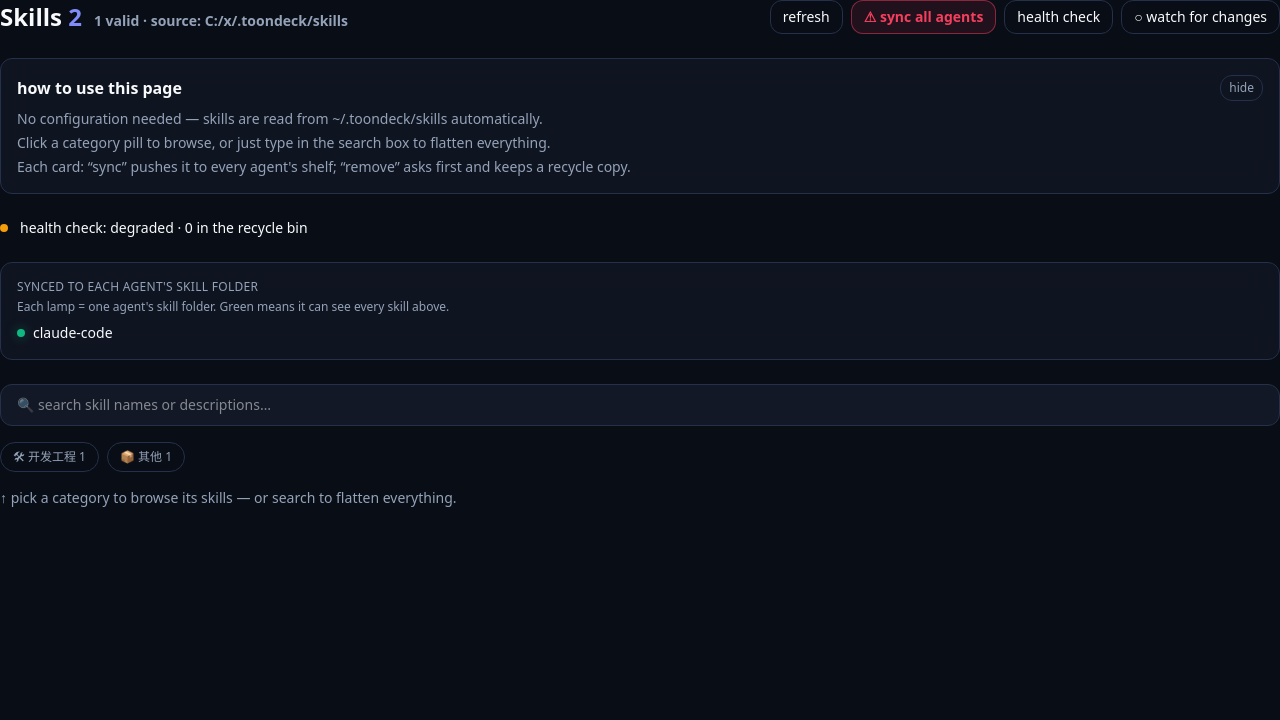
Scenario: SkillsPanel card actions (UX-017) › removes a skill only after in-app confirmation
This screenshot has width=1280, height=720.
Click the button with test id "category-pill-🛠 开发工程": click(49, 457) [0,442,99,472]
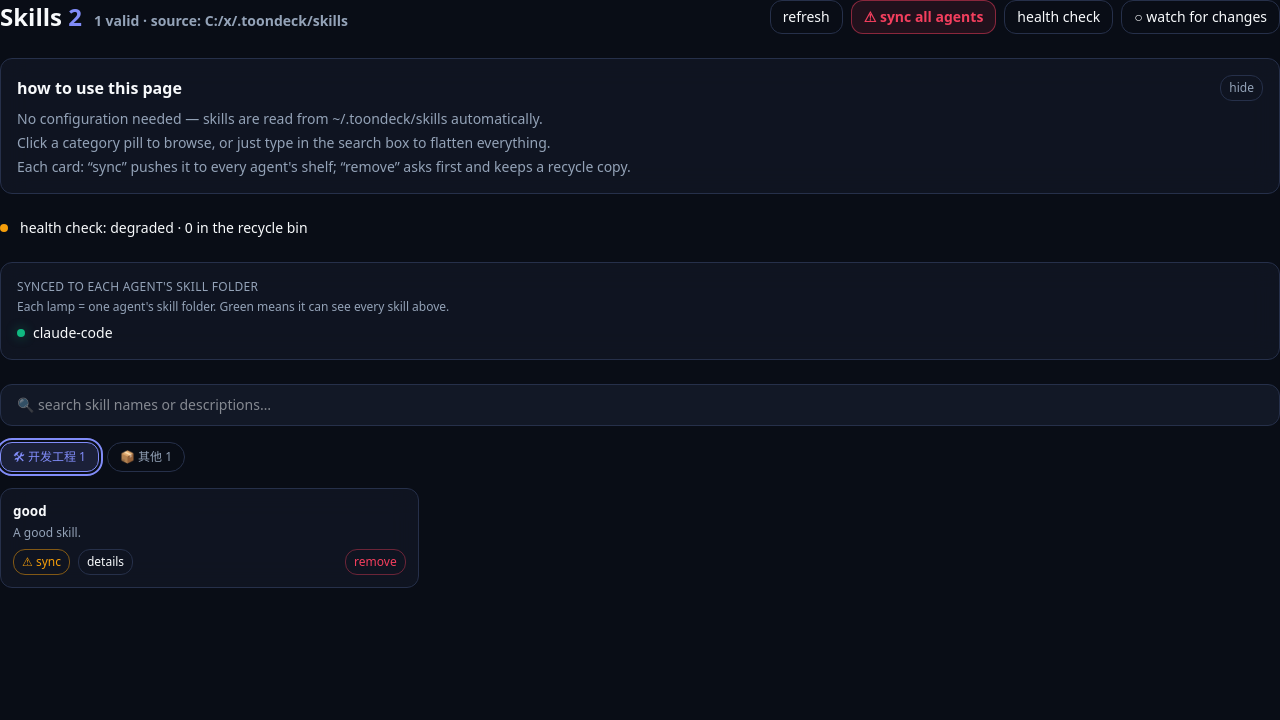
Click the button with test id "skill-remove-good": click(375, 562) [345,549,406,575]
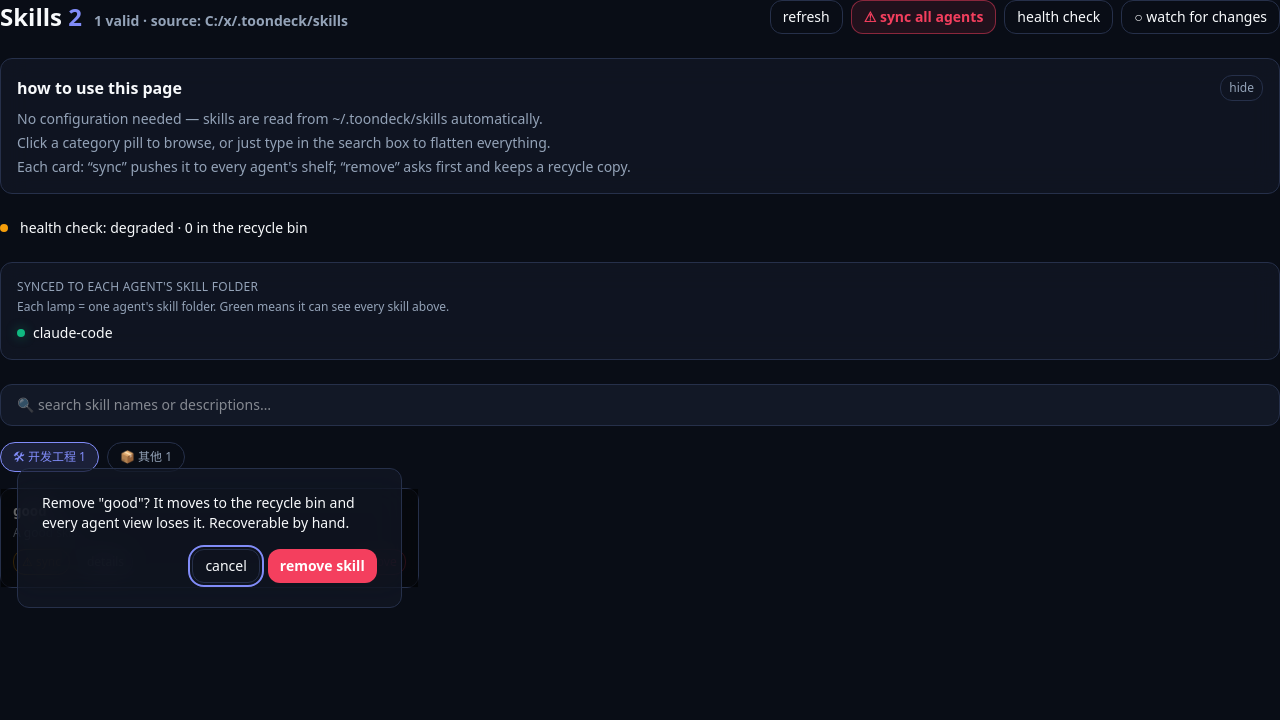
expect the dialog shows "good": met, box [42,493,355,532]
Click the button "cancel": click(226, 566) [192,549,260,583]
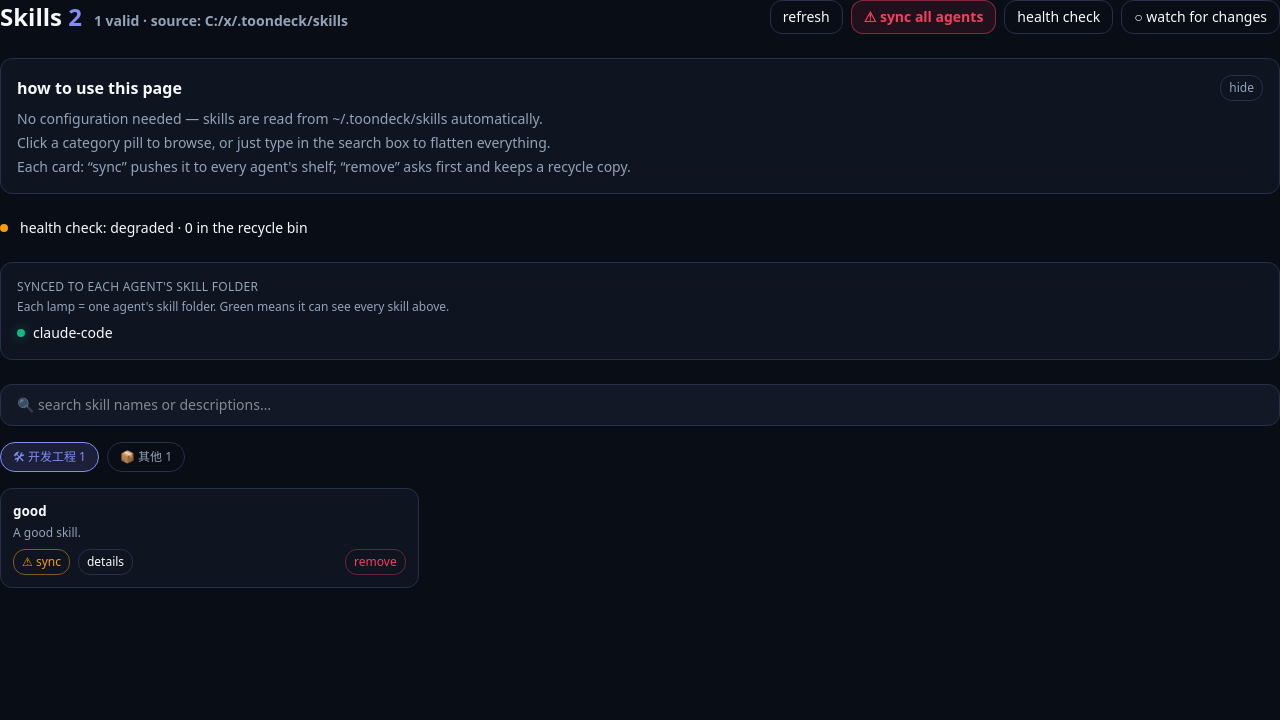
Click the button with test id "skill-remove-good": click(375, 562) [345,549,406,575]
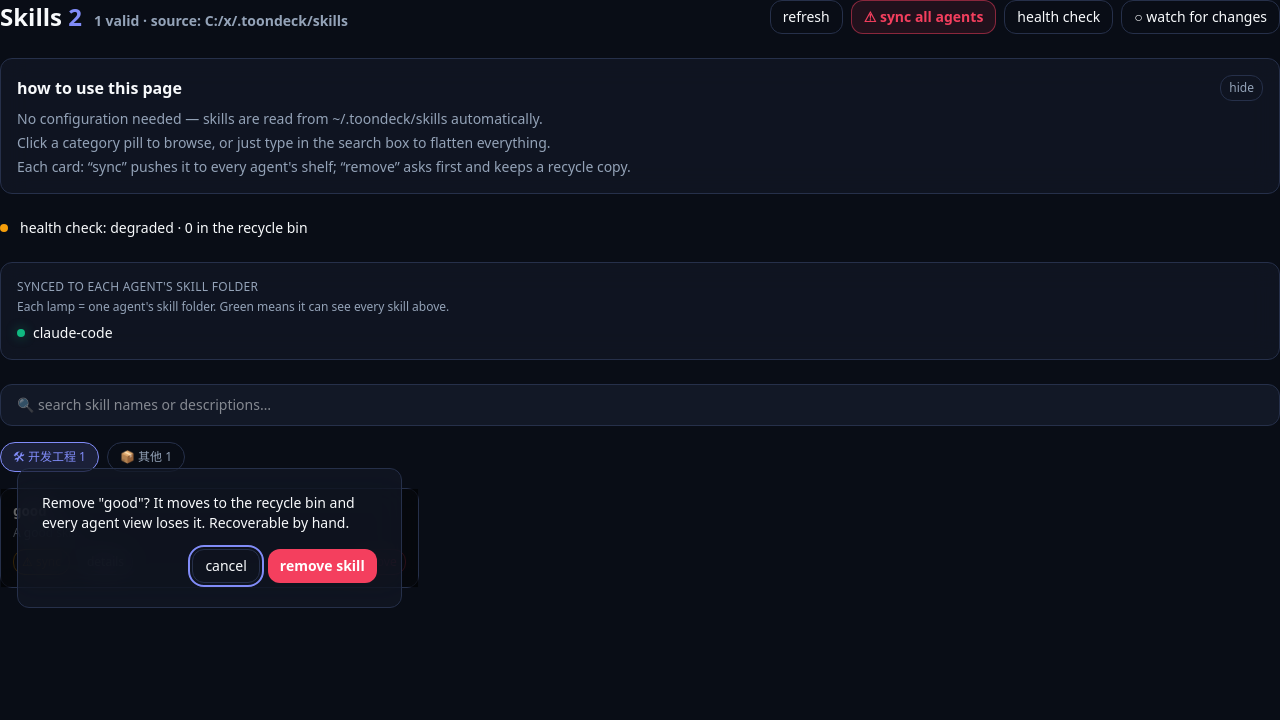
Click the button "remove skill": click(322, 566) [268,549,377,583]
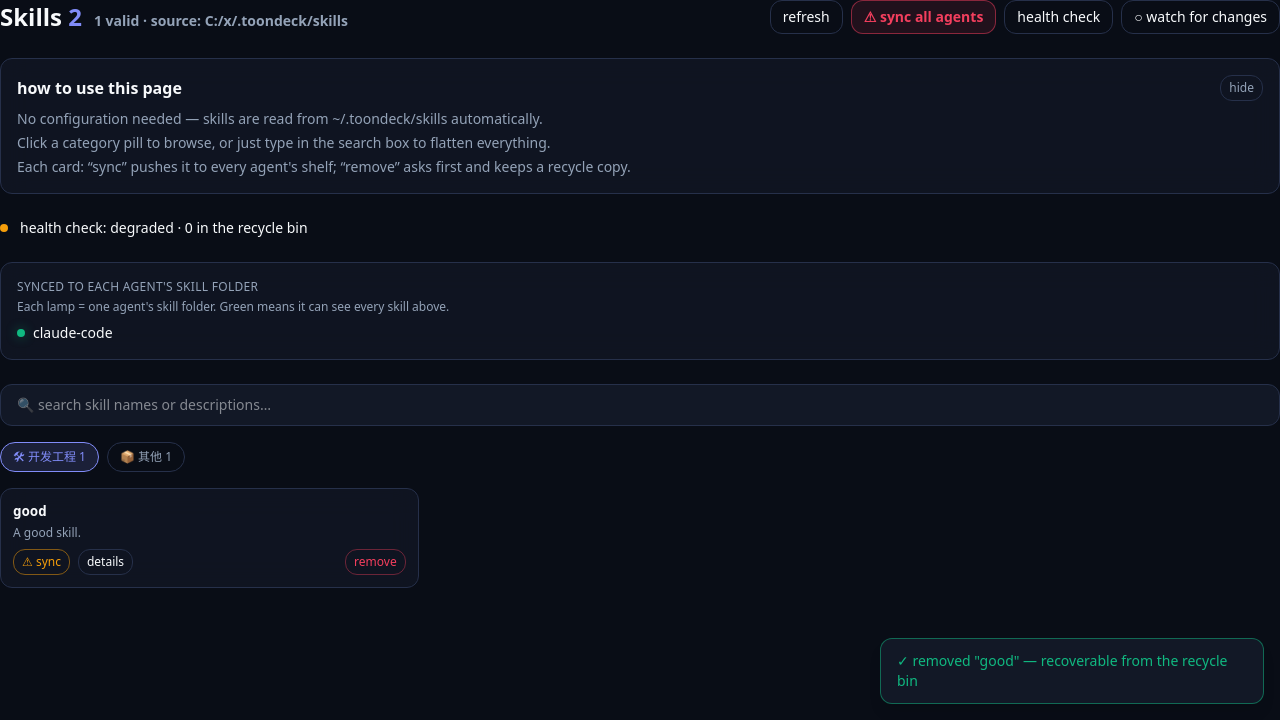
expect the button "✓ removed \"good\" — recoverable from the recycle bin" is shown: met, box [880,638,1264,704]
